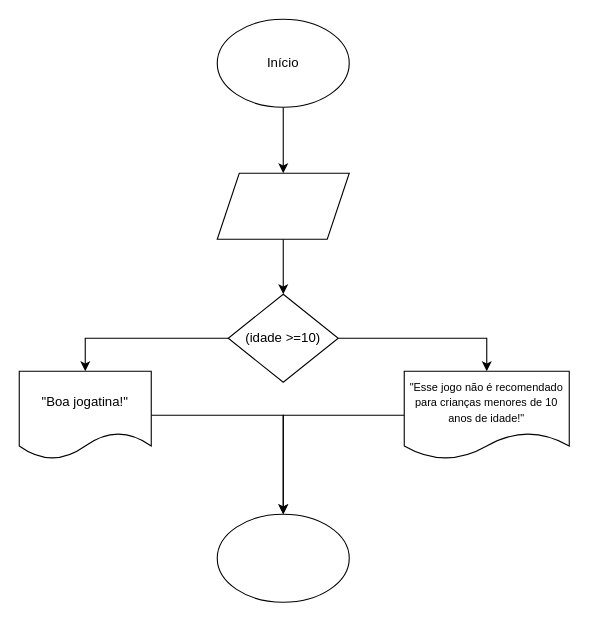
This 589x622 diagram has some shape labels left out. Here are the shapes that lost their labels. From the top down, the centre of each, then its label:
At pixel 282 205: "idade".
At pixel 282 557: "Fim".
